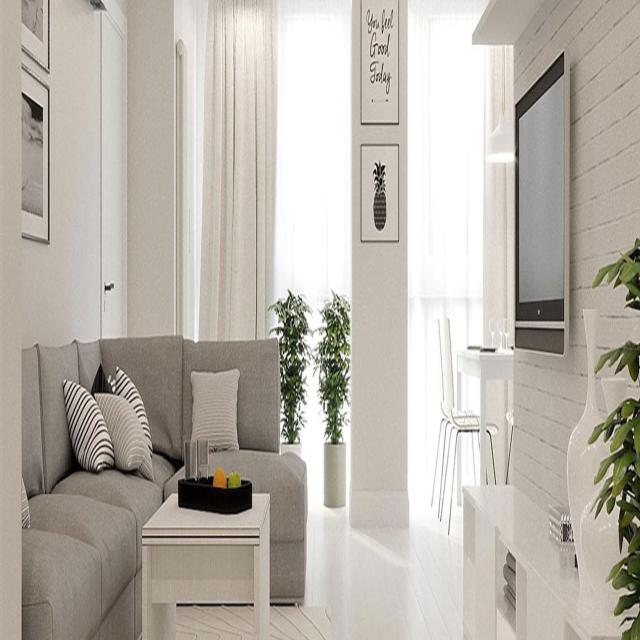white sofa: (14, 335, 296, 640)
